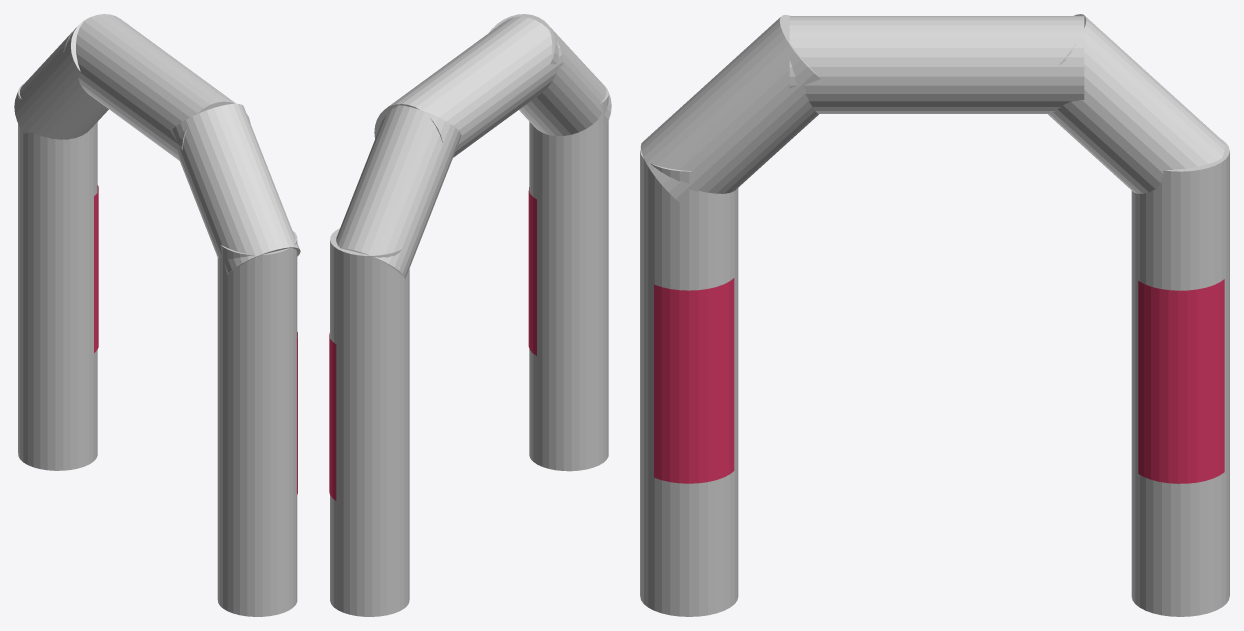
The model's file is boog2.glb.
3 views of the same model, side by side, from view 1: azimuth 30°, elevation 25°; view 2: azimuth 150°, elevation 25°; view 3: azimuth 270°, elevation 25° (orthographic). The views are drawn at different scales.
Parts seen in each view (by area): view 1: 1, 5, 2, 3, 4, 22; view 2: 5, 1, 4, 3, 2, 21, 22; view 3: 3, 5, 1, 22, 2, 21, 4.
Part boxes in pixels (x1,y1,x2,y2): 1: [217, 231, 297, 616]; 5: [18, 83, 97, 470]; 2: [171, 103, 300, 274]; 3: [63, 14, 250, 160]; 4: [14, 17, 128, 139]; 22: [94, 185, 98, 352]; 5: [330, 228, 409, 616]; 1: [529, 87, 608, 471]; 4: [336, 105, 461, 278]; 3: [374, 16, 562, 157]; 2: [489, 14, 611, 136]; 21: [528, 187, 536, 355]; 22: [329, 333, 336, 500]; 3: [789, 16, 1084, 113]; 5: [1131, 139, 1229, 616]; 1: [640, 148, 738, 616]; 22: [1138, 279, 1224, 483]; 2: [640, 14, 820, 204]; 21: [654, 278, 734, 483]; 4: [1048, 14, 1225, 193].
Bounding box in the file's own units: 2.09 × 12.93 × 12.
